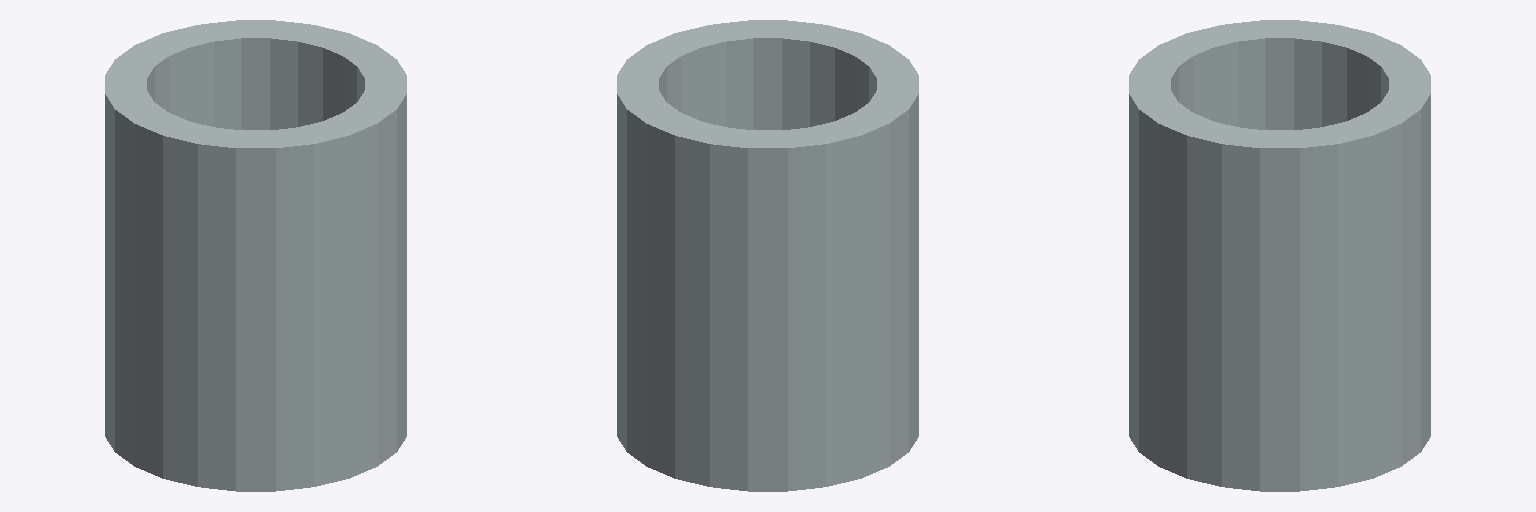
robot.urdf — scale:
<?xml version='1.0' encoding='utf-8'?>
<robot name="scale"><!-- CRAMERA laboratory asset rights:
Principal author: Vanessa Hassouna
Institution: AICOR Institute
Copyright (c) 2026 Vanessa Hassouna. All rights reserved where rights subsist.
License: LicenseRef-AICOR-Laboratory-Assets
See LICENSE.txt and NOTICE.md.
-->
  <link name="laboratory_balance">
    <collision name="weighing_pan">
      <origin xyz="0 0 0" />
      <geometry>
        <cylinder radius="0.085" length="0.012" />
      </geometry>
    </collision>
    <collision name="housing">
      <origin xyz="0 -0.02 -0.037" rpy="0 0 0" />
      <geometry>
        <box size="0.3 0.22 0.058" />
      </geometry>
    </collision>
    <collision name="weighing_holder_0">
      <origin xyz="0.01375 0 0.026" rpy="0 0 0" />
      <geometry>
        <box size="0.0045 0.0042128799 0.04" />
      </geometry>
    </collision>
    <collision name="weighing_holder_1">
      <origin xyz="0.01328148 0.0035587619 0.026" rpy="0 0 0.26179939" />
      <geometry>
        <box size="0.0045 0.0042128799 0.04" />
      </geometry>
    </collision>
    <collision name="weighing_holder_2">
      <origin xyz="0.011907849 0.006875 0.026" rpy="0 0 0.52359878" />
      <geometry>
        <box size="0.0045 0.0042128799 0.04" />
      </geometry>
    </collision>
    <collision name="weighing_holder_3">
      <origin xyz="0.0097227182 0.0097227182 0.026" rpy="0 0 0.78539816" />
      <geometry>
        <box size="0.0045 0.0042128799 0.04" />
      </geometry>
    </collision>
    <collision name="weighing_holder_4">
      <origin xyz="0.006875 0.011907849 0.026" rpy="0 0 1.0471976" />
      <geometry>
        <box size="0.0045 0.0042128799 0.04" />
      </geometry>
    </collision>
    <collision name="weighing_holder_5">
      <origin xyz="0.0035587619 0.01328148 0.026" rpy="0 0 1.3089969" />
      <geometry>
        <box size="0.0045 0.0042128799 0.04" />
      </geometry>
    </collision>
    <collision name="weighing_holder_6">
      <origin xyz="8.4194467e-19 0.01375 0.026" rpy="0 0 1.5707963" />
      <geometry>
        <box size="0.0045 0.0042128799 0.04" />
      </geometry>
    </collision>
    <collision name="weighing_holder_7">
      <origin xyz="-0.0035587619 0.01328148 0.026" rpy="0 0 1.8325957" />
      <geometry>
        <box size="0.0045 0.0042128799 0.04" />
      </geometry>
    </collision>
    <collision name="weighing_holder_8">
      <origin xyz="-0.006875 0.011907849 0.026" rpy="0 0 2.0943951" />
      <geometry>
        <box size="0.0045 0.0042128799 0.04" />
      </geometry>
    </collision>
    <collision name="weighing_holder_9">
      <origin xyz="-0.0097227182 0.0097227182 0.026" rpy="0 0 2.3561945" />
      <geometry>
        <box size="0.0045 0.0042128799 0.04" />
      </geometry>
    </collision>
    <collision name="weighing_holder_10">
      <origin xyz="-0.011907849 0.006875 0.026" rpy="0 0 2.6179939" />
      <geometry>
        <box size="0.0045 0.0042128799 0.04" />
      </geometry>
    </collision>
    <collision name="weighing_holder_11">
      <origin xyz="-0.01328148 0.0035587619 0.026" rpy="0 0 2.8797933" />
      <geometry>
        <box size="0.0045 0.0042128799 0.04" />
      </geometry>
    </collision>
    <collision name="weighing_holder_12">
      <origin xyz="-0.01375 1.6838893e-18 0.026" rpy="0 0 3.1415927" />
      <geometry>
        <box size="0.0045 0.0042128799 0.04" />
      </geometry>
    </collision>
    <collision name="weighing_holder_13">
      <origin xyz="-0.01328148 -0.0035587619 0.026" rpy="0 0 3.403392" />
      <geometry>
        <box size="0.0045 0.0042128799 0.04" />
      </geometry>
    </collision>
    <collision name="weighing_holder_14">
      <origin xyz="-0.011907849 -0.006875 0.026" rpy="0 0 3.6651914" />
      <geometry>
        <box size="0.0045 0.0042128799 0.04" />
      </geometry>
    </collision>
    <collision name="weighing_holder_15">
      <origin xyz="-0.0097227182 -0.0097227182 0.026" rpy="0 0 3.9269908" />
      <geometry>
        <box size="0.0045 0.0042128799 0.04" />
      </geometry>
    </collision>
    <collision name="weighing_holder_16">
      <origin xyz="-0.006875 -0.011907849 0.026" rpy="0 0 4.1887902" />
      <geometry>
        <box size="0.0045 0.0042128799 0.04" />
      </geometry>
    </collision>
    <collision name="weighing_holder_17">
      <origin xyz="-0.0035587619 -0.01328148 0.026" rpy="0 0 4.4505896" />
      <geometry>
        <box size="0.0045 0.0042128799 0.04" />
      </geometry>
    </collision>
    <collision name="weighing_holder_18">
      <origin xyz="-2.525834e-18 -0.01375 0.026" rpy="0 0 4.712389" />
      <geometry>
        <box size="0.0045 0.0042128799 0.04" />
      </geometry>
    </collision>
    <collision name="weighing_holder_19">
      <origin xyz="0.0035587619 -0.01328148 0.026" rpy="0 0 4.9741884" />
      <geometry>
        <box size="0.0045 0.0042128799 0.04" />
      </geometry>
    </collision>
    <collision name="weighing_holder_20">
      <origin xyz="0.006875 -0.011907849 0.026" rpy="0 0 5.2359878" />
      <geometry>
        <box size="0.0045 0.0042128799 0.04" />
      </geometry>
    </collision>
    <collision name="weighing_holder_21">
      <origin xyz="0.0097227182 -0.0097227182 0.026" rpy="0 0 5.4977871" />
      <geometry>
        <box size="0.0045 0.0042128799 0.04" />
      </geometry>
    </collision>
    <collision name="weighing_holder_22">
      <origin xyz="0.011907849 -0.006875 0.026" rpy="0 0 5.7595865" />
      <geometry>
        <box size="0.0045 0.0042128799 0.04" />
      </geometry>
    </collision>
    <collision name="weighing_holder_23">
      <origin xyz="0.01328148 -0.0035587619 0.026" rpy="0 0 6.0213859" />
      <geometry>
        <box size="0.0045 0.0042128799 0.04" />
      </geometry>
    </collision>
    <visual>
      <geometry>
        <mesh filename="assets/scale.glb" />
      </geometry>
    </visual>
    <visual name="weighing_holder_0">
      <origin xyz="0.01375 0 0.026" rpy="0 0 0" />
      <geometry>
        <box size="0.0045 0.0042128799 0.04" />
      </geometry>
      <material name="Satin stainless steel">
        <color rgba="0.721568627 0.768627451 0.768627451 1" />
      </material>
    </visual>
    <visual name="weighing_holder_1">
      <origin xyz="0.01328148 0.0035587619 0.026" rpy="0 0 0.26179939" />
      <geometry>
        <box size="0.0045 0.0042128799 0.04" />
      </geometry>
      <material name="Satin stainless steel">
        <color rgba="0.721568627 0.768627451 0.768627451 1" />
      </material>
    </visual>
    <visual name="weighing_holder_2">
      <origin xyz="0.011907849 0.006875 0.026" rpy="0 0 0.52359878" />
      <geometry>
        <box size="0.0045 0.0042128799 0.04" />
      </geometry>
      <material name="Satin stainless steel">
        <color rgba="0.721568627 0.768627451 0.768627451 1" />
      </material>
    </visual>
    <visual name="weighing_holder_3">
      <origin xyz="0.0097227182 0.0097227182 0.026" rpy="0 0 0.78539816" />
      <geometry>
        <box size="0.0045 0.0042128799 0.04" />
      </geometry>
      <material name="Satin stainless steel">
        <color rgba="0.721568627 0.768627451 0.768627451 1" />
      </material>
    </visual>
    <visual name="weighing_holder_4">
      <origin xyz="0.006875 0.011907849 0.026" rpy="0 0 1.0471976" />
      <geometry>
        <box size="0.0045 0.0042128799 0.04" />
      </geometry>
      <material name="Satin stainless steel">
        <color rgba="0.721568627 0.768627451 0.768627451 1" />
      </material>
    </visual>
    <visual name="weighing_holder_5">
      <origin xyz="0.0035587619 0.01328148 0.026" rpy="0 0 1.3089969" />
      <geometry>
        <box size="0.0045 0.0042128799 0.04" />
      </geometry>
      <material name="Satin stainless steel">
        <color rgba="0.721568627 0.768627451 0.768627451 1" />
      </material>
    </visual>
    <visual name="weighing_holder_6">
      <origin xyz="8.4194467e-19 0.01375 0.026" rpy="0 0 1.5707963" />
      <geometry>
        <box size="0.0045 0.0042128799 0.04" />
      </geometry>
      <material name="Satin stainless steel">
        <color rgba="0.721568627 0.768627451 0.768627451 1" />
      </material>
    </visual>
    <visual name="weighing_holder_7">
      <origin xyz="-0.0035587619 0.01328148 0.026" rpy="0 0 1.8325957" />
      <geometry>
        <box size="0.0045 0.0042128799 0.04" />
      </geometry>
      <material name="Satin stainless steel">
        <color rgba="0.721568627 0.768627451 0.768627451 1" />
      </material>
    </visual>
    <visual name="weighing_holder_8">
      <origin xyz="-0.006875 0.011907849 0.026" rpy="0 0 2.0943951" />
      <geometry>
        <box size="0.0045 0.0042128799 0.04" />
      </geometry>
      <material name="Satin stainless steel">
        <color rgba="0.721568627 0.768627451 0.768627451 1" />
      </material>
    </visual>
    <visual name="weighing_holder_9">
      <origin xyz="-0.0097227182 0.0097227182 0.026" rpy="0 0 2.3561945" />
      <geometry>
        <box size="0.0045 0.0042128799 0.04" />
      </geometry>
      <material name="Satin stainless steel">
        <color rgba="0.721568627 0.768627451 0.768627451 1" />
      </material>
    </visual>
    <visual name="weighing_holder_10">
      <origin xyz="-0.011907849 0.006875 0.026" rpy="0 0 2.6179939" />
      <geometry>
        <box size="0.0045 0.0042128799 0.04" />
      </geometry>
      <material name="Satin stainless steel">
        <color rgba="0.721568627 0.768627451 0.768627451 1" />
      </material>
    </visual>
    <visual name="weighing_holder_11">
      <origin xyz="-0.01328148 0.0035587619 0.026" rpy="0 0 2.8797933" />
      <geometry>
        <box size="0.0045 0.0042128799 0.04" />
      </geometry>
      <material name="Satin stainless steel">
        <color rgba="0.721568627 0.768627451 0.768627451 1" />
      </material>
    </visual>
    <visual name="weighing_holder_12">
      <origin xyz="-0.01375 1.6838893e-18 0.026" rpy="0 0 3.1415927" />
      <geometry>
        <box size="0.0045 0.0042128799 0.04" />
      </geometry>
      <material name="Satin stainless steel">
        <color rgba="0.721568627 0.768627451 0.768627451 1" />
      </material>
    </visual>
    <visual name="weighing_holder_13">
      <origin xyz="-0.01328148 -0.0035587619 0.026" rpy="0 0 3.403392" />
      <geometry>
        <box size="0.0045 0.0042128799 0.04" />
      </geometry>
      <material name="Satin stainless steel">
        <color rgba="0.721568627 0.768627451 0.768627451 1" />
      </material>
    </visual>
    <visual name="weighing_holder_14">
      <origin xyz="-0.011907849 -0.006875 0.026" rpy="0 0 3.6651914" />
      <geometry>
        <box size="0.0045 0.0042128799 0.04" />
      </geometry>
      <material name="Satin stainless steel">
        <color rgba="0.721568627 0.768627451 0.768627451 1" />
      </material>
    </visual>
    <visual name="weighing_holder_15">
      <origin xyz="-0.0097227182 -0.0097227182 0.026" rpy="0 0 3.9269908" />
      <geometry>
        <box size="0.0045 0.0042128799 0.04" />
      </geometry>
      <material name="Satin stainless steel">
        <color rgba="0.721568627 0.768627451 0.768627451 1" />
      </material>
    </visual>
    <visual name="weighing_holder_16">
      <origin xyz="-0.006875 -0.011907849 0.026" rpy="0 0 4.1887902" />
      <geometry>
        <box size="0.0045 0.0042128799 0.04" />
      </geometry>
      <material name="Satin stainless steel">
        <color rgba="0.721568627 0.768627451 0.768627451 1" />
      </material>
    </visual>
    <visual name="weighing_holder_17">
      <origin xyz="-0.0035587619 -0.01328148 0.026" rpy="0 0 4.4505896" />
      <geometry>
        <box size="0.0045 0.0042128799 0.04" />
      </geometry>
      <material name="Satin stainless steel">
        <color rgba="0.721568627 0.768627451 0.768627451 1" />
      </material>
    </visual>
    <visual name="weighing_holder_18">
      <origin xyz="-2.525834e-18 -0.01375 0.026" rpy="0 0 4.712389" />
      <geometry>
        <box size="0.0045 0.0042128799 0.04" />
      </geometry>
      <material name="Satin stainless steel">
        <color rgba="0.721568627 0.768627451 0.768627451 1" />
      </material>
    </visual>
    <visual name="weighing_holder_19">
      <origin xyz="0.0035587619 -0.01328148 0.026" rpy="0 0 4.9741884" />
      <geometry>
        <box size="0.0045 0.0042128799 0.04" />
      </geometry>
      <material name="Satin stainless steel">
        <color rgba="0.721568627 0.768627451 0.768627451 1" />
      </material>
    </visual>
    <visual name="weighing_holder_20">
      <origin xyz="0.006875 -0.011907849 0.026" rpy="0 0 5.2359878" />
      <geometry>
        <box size="0.0045 0.0042128799 0.04" />
      </geometry>
      <material name="Satin stainless steel">
        <color rgba="0.721568627 0.768627451 0.768627451 1" />
      </material>
    </visual>
    <visual name="weighing_holder_21">
      <origin xyz="0.0097227182 -0.0097227182 0.026" rpy="0 0 5.4977871" />
      <geometry>
        <box size="0.0045 0.0042128799 0.04" />
      </geometry>
      <material name="Satin stainless steel">
        <color rgba="0.721568627 0.768627451 0.768627451 1" />
      </material>
    </visual>
    <visual name="weighing_holder_22">
      <origin xyz="0.011907849 -0.006875 0.026" rpy="0 0 5.7595865" />
      <geometry>
        <box size="0.0045 0.0042128799 0.04" />
      </geometry>
      <material name="Satin stainless steel">
        <color rgba="0.721568627 0.768627451 0.768627451 1" />
      </material>
    </visual>
    <visual name="weighing_holder_23">
      <origin xyz="0.01328148 -0.0035587619 0.026" rpy="0 0 6.0213859" />
      <geometry>
        <box size="0.0045 0.0042128799 0.04" />
      </geometry>
      <material name="Satin stainless steel">
        <color rgba="0.721568627 0.768627451 0.768627451 1" />
      </material>
    </visual>
  </link>
</robot>

--- Facts derived from the render (not from the file) ---
Views: 3 orthographic renders of the robot side by side, from view 1: azimuth 30°, elevation 25°; view 2: azimuth 150°, elevation 25°; view 3: azimuth 270°, elevation 25°.
Model scale with 1 links and 0 joints (none), rooted at laboratory_balance, posed every joint at zero.
Links seen in each view (by area): view 1: laboratory_balance; view 2: laboratory_balance; view 3: laboratory_balance.
Boxes of the visible links, <box> form: laboratory_balance: <box>105,20,406,491</box>; laboratory_balance: <box>617,20,918,491</box>; laboratory_balance: <box>1129,20,1430,491</box>.
Size in the robot's own frame: 0.032 by 0.032 by 0.04 metres.
Meshes: 1 distinct files referenced, 0 mesh visuals loaded (none loaded); not drawn: 1 (reference not matched to a file when rendering).
